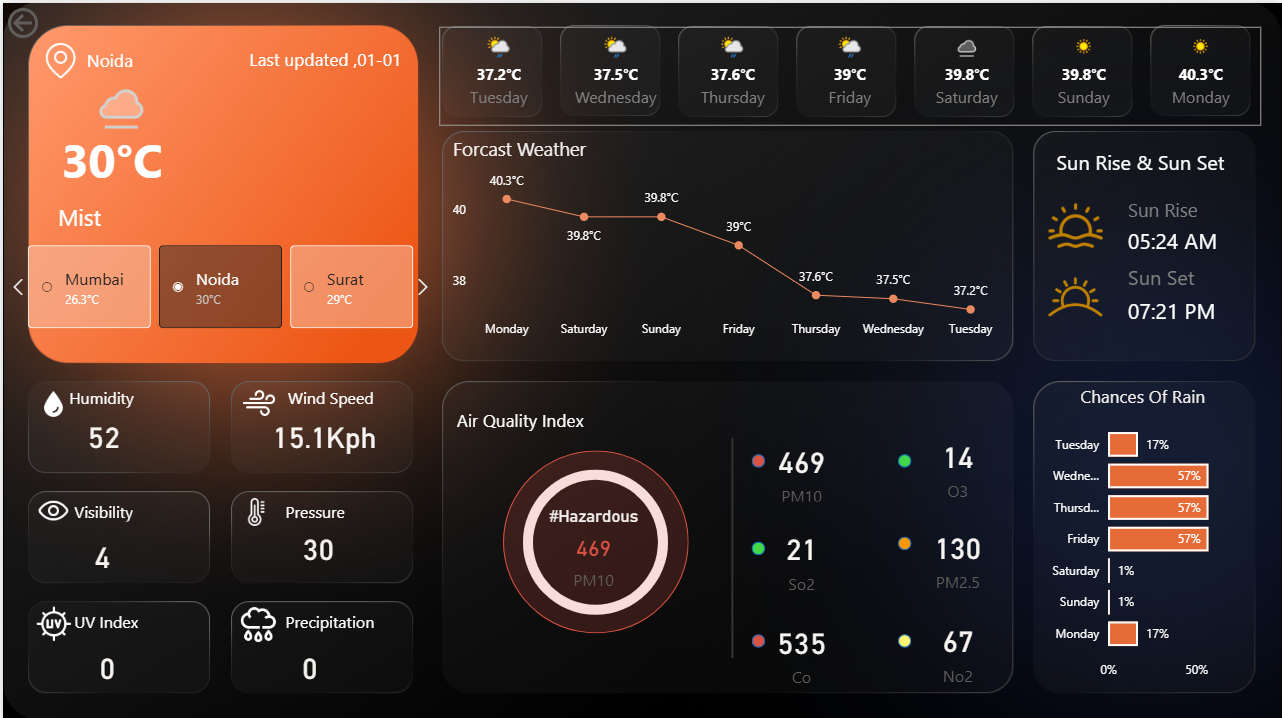

Layout of this report page (visuals, bound fields, positions):
{"tool":"powerbi","page":{"name":"Page 1","canvas":[1280,720],"ordinal":0},"visuals":[{"type":"donutChart","fields":{"Y":["Sum(Current.current.air_quality.pm10)","_Measures.left_value_pm10"]},"box":[405.7,444.3,372.9,191.4],"z":0},{"type":"shape","box":[500,447.1,185.7,182.9],"z":1000},{"type":"advancedSlicerVisual","fields":{"Label":["_Measures.curr_temp_c"],"Values":["location.location.name"]},"box":[0,238.1,435.7,93.8],"z":2000},{"type":"actionButton","box":[0,0,100,40],"z":3000},{"type":"shape","box":[58.9,119,236.8,73.6],"z":4000},{"type":"shape","box":[55.2,176.7,236.8,73.6],"z":5000},{"type":"shape","box":[83.4,23.3,201.2,65],"z":6000},{"type":"shape","box":[184.1,30.7,214.7,50.3],"z":7000},{"type":"image","box":[30.7,40.5,52.8,35.6],"z":8000},{"type":"image","box":[68.7,69.9,99.4,62.6],"z":9000},{"type":"image","box":[30.7,489.6,38,35.6],"z":10000},{"type":"shape","box":[71.2,482.2,214.7,50.3],"z":11000},{"type":"image","box":[30.7,387.7,38,27],"z":12000},{"type":"shape","box":[1030,132.5,215,51.2],"z":13000},{"type":"image","box":[31.9,600,36.8,41.7],"z":14000},{"type":"shape","box":[71.2,592.5,215,50],"z":15000},{"type":"image","box":[239.3,381.6,34.4,38],"z":16000},{"type":"shape","box":[284.7,369.3,214.7,50.3],"z":17000},{"type":"image","box":[234.4,494.5,39.3,28.2],"z":18000},{"type":"shape","box":[282.2,482.2,214.7,50.3],"z":19000},{"type":"image","box":[234.4,600,42.9,42.9],"z":20000},{"type":"shape","box":[282.2,592.6,214.7,50.3],"z":21000},{"type":"advancedSlicerVisual","fields":{"Values":["Forcast_Day.day_name"]},"box":[436.2,23.8,821.2,98.8],"z":22000},{"type":"lineChart","title":"Forcast Weather","fields":{"Category":["Forcast_Day.day_name"],"Y":["Sum(Forcast_Day.forecast.forecastday.day.avgtemp_c)"]},"box":[445,132.5,558.8,211.2],"z":23000},{"type":"shape","box":[66.4,369.3,215,50.5],"z":24000},{"type":"shape","box":[1125,213.8,95,46.2],"z":25000},{"type":"shape","box":[1125,283.8,95,46.2],"z":26000},{"type":"shape","box":[1125,251.2,95,46.2],"z":27000},{"type":"shape","box":[1125,183.8,95,46.2],"z":28000},{"type":"image","box":[1035,195,75,55],"z":29000},{"type":"image","box":[1030,257.5,85,72.5],"z":30000},{"type":"clusteredBarChart","title":"Chances Of Rain","fields":{"Category":["Forcast_Day.day_name"],"Y":["Sum(Forcast_Day.Rain_Percent)"]},"box":[1030.7,381.6,217.2,304.3],"z":31000},{"type":"shape","title":"xmxxjxj","box":[454.4,390.9,215,51.9],"z":32000},{"type":"card","fields":{"Values":["Sum(Current.current.humidity)"]},"box":[67.8,401.1,66.4,63.5],"z":33000},{"type":"card","fields":{"Values":["_Measures.curr_wind"]},"box":[253.9,401.1,135.6,63.5],"z":34000},{"type":"card","fields":{"Values":["Sum(Current.current.pressure_in)"]},"box":[274.1,513.6,83.7,63.5],"z":35000},{"type":"card","fields":{"Values":["Sum(Current.current.vis_km)"]},"box":[66.4,520.8,66.4,63.5],"z":36000},{"type":"card","fields":{"Values":["Sum(Current.current.uv)"]},"box":[70.7,631.9,66.4,63.5],"z":37000},{"type":"card","fields":{"Values":["Sum(Current.current.precip_in)"]},"box":[274.1,631.9,66.4,63.5],"z":38000},{"type":"card","fields":{"Values":["Sum(Current.current.air_quality.pm10)"]},"box":[751.5,433.2,95,70],"z":39000},{"type":"card","fields":{"Values":["Sum(Current.current.air_quality.o3)"]},"box":[908.1,423.2,95,80],"z":40000},{"type":"card","fields":{"Values":["Sum(Current.current.air_quality.so2)"]},"box":[751.5,516.5,95,80],"z":41000},{"type":"card","fields":{"Values":["Sum(Current.current.air_quality.pm2_5)"]},"box":[908.1,516.5,95,76.6],"z":42000},{"type":"card","fields":{"Values":["Sum(Current.current.air_quality.no2)"]},"box":[908.1,608.2,95,78.3],"z":43000},{"type":"card","fields":{"Values":["Sum(Current.current.air_quality.co)"]},"box":[751.5,608.2,95,81.6],"z":44000},{"type":"shape","box":[894.8,631.5,13.3,13.3],"z":45000},{"type":"shape","box":[748.2,451.6,13.3,13.3],"z":46000},{"type":"shape","box":[748.2,631.5,13.3,13.3],"z":47000},{"type":"shape","box":[748.2,538.2,13.3,13.3],"z":48000},{"type":"shape","box":[894.8,533.2,13.3,13.3],"z":49000},{"type":"shape","box":[894.8,451.6,13.3,13.3],"z":50000},{"type":"shape","box":[703.8,435,51.2,220],"z":51000},{"type":"card","fields":{"Values":["Sum(Current.current.air_quality.pm10)"]},"box":[530,502.9,121.4,88.6],"z":52000}]}

Visuals, with their boxes in screenshot pixels (x1, y1, x2, y2), scaled from the page's 1280x720 canvas onto the 1282x718 screenshot:
donutChart - Sum(Current.current.air_quality.pm10) x _Measures.left_value_pm10: [406,443,780,634]
shape: [501,446,687,628]
advancedSlicerVisual - _Measures.curr_temp_c x location.location.name: [0,237,436,331]
actionButton: [0,0,100,40]
shape: [59,119,296,192]
shape: [55,176,292,250]
shape: [84,23,285,88]
shape: [184,31,399,81]
image: [31,40,84,76]
image: [69,70,168,132]
image: [31,488,69,524]
shape: [71,481,286,531]
image: [31,387,69,414]
shape: [1032,132,1247,183]
image: [32,598,69,640]
shape: [71,591,287,641]
image: [240,381,274,418]
shape: [285,368,500,418]
image: [235,493,274,521]
shape: [283,481,498,531]
image: [235,598,278,641]
shape: [283,591,498,641]
advancedSlicerVisual - Forcast_Day.day_name: [437,24,1259,122]
"Forcast Weather" lineChart: [446,132,1005,343]
shape: [67,368,282,419]
shape: [1127,213,1222,259]
shape: [1127,283,1222,329]
shape: [1127,251,1222,297]
shape: [1127,183,1222,229]
image: [1037,194,1112,249]
image: [1032,257,1117,329]
"Chances Of Rain" clusteredBarChart: [1032,381,1250,684]
"xmxxjxj" shape: [455,390,670,442]
card - Sum(Current.current.humidity): [68,400,134,463]
card - _Measures.curr_wind: [254,400,390,463]
card - Sum(Current.current.pressure_in): [275,512,358,575]
card - Sum(Current.current.vis_km): [67,519,133,583]
card - Sum(Current.current.uv): [71,630,137,693]
card - Sum(Current.current.precip_in): [275,630,341,693]
card - Sum(Current.current.air_quality.pm10): [753,432,848,502]
card - Sum(Current.current.air_quality.o3): [910,422,1005,502]
card - Sum(Current.current.air_quality.so2): [753,515,848,595]
card - Sum(Current.current.air_quality.pm2_5): [910,515,1005,591]
card - Sum(Current.current.air_quality.no2): [910,607,1005,685]
card - Sum(Current.current.air_quality.co): [753,607,848,688]
shape: [896,630,910,643]
shape: [749,450,763,464]
shape: [749,630,763,643]
shape: [749,537,763,550]
shape: [896,532,910,545]
shape: [896,450,910,464]
shape: [705,434,756,653]
card - Sum(Current.current.air_quality.pm10): [531,502,652,590]
